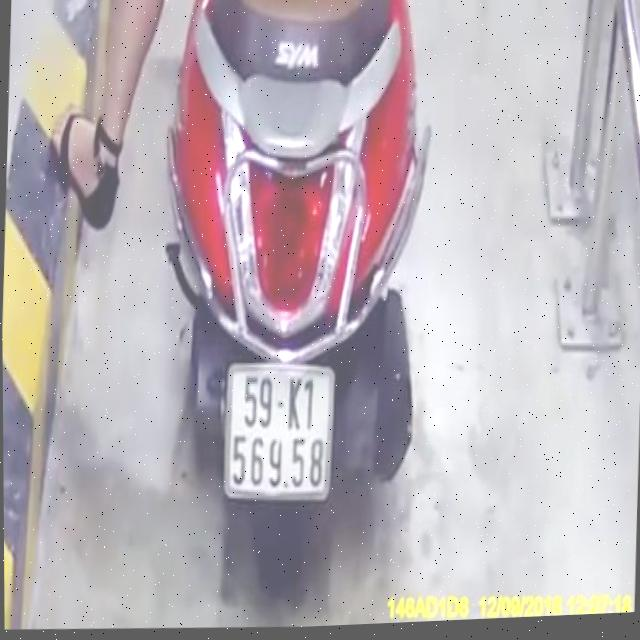motorcycle: (145, 0, 445, 604)
plate: (218, 354, 343, 509)
